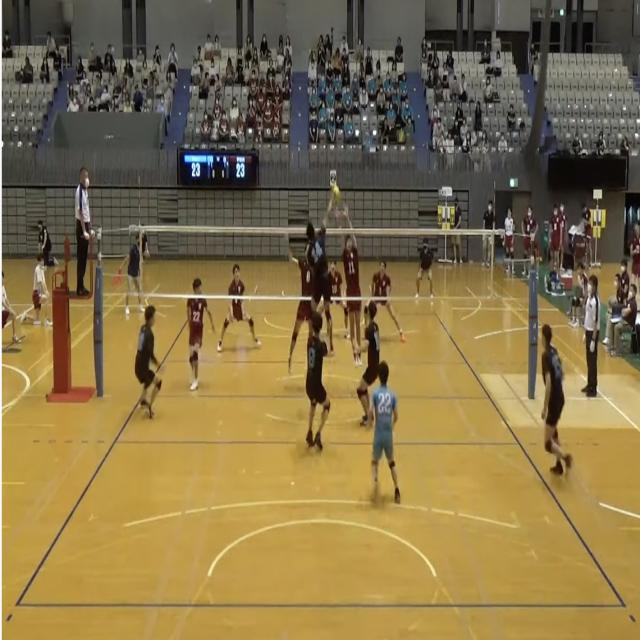spike: (300, 178, 340, 355)
